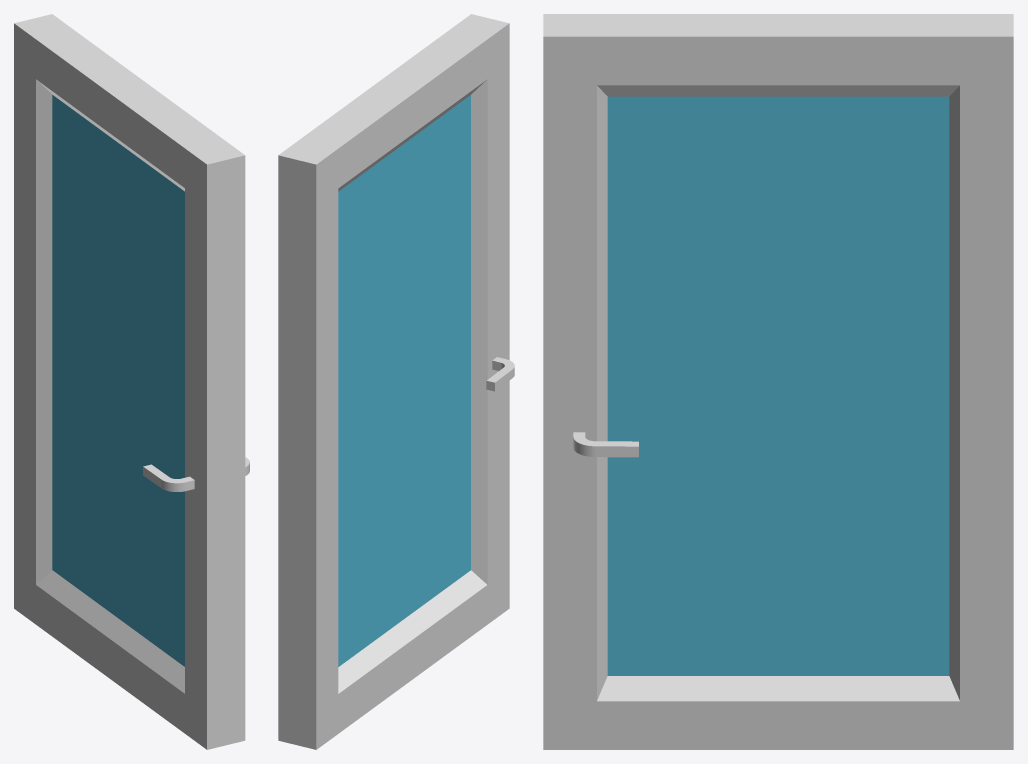
The model's file is PuertaVidrio.fbx.
3 renders of one model, left to right at view 1: azimuth 30°, elevation 25°; view 2: azimuth 150°, elevation 25°; view 3: azimuth 270°, elevation 25°, orthographic. The views are drawn at different scales.
Visible parts, largest first — view 1: Puerta, Manija; view 2: Puerta, Manija; view 3: Puerta, Manija.
Boxes of the visible parts, <box> form: Puerta: <box>14,14,245,749</box>; Manija: <box>143,457,249,491</box>; Puerta: <box>278,14,509,749</box>; Manija: <box>486,357,514,391</box>; Puerta: <box>543,14,1013,749</box>; Manija: <box>573,432,638,457</box>.
Bounding box in the file's own units: 15.58 × 100 × 59.85.
